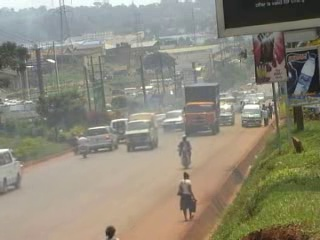Car: (84, 124, 119, 152), (159, 108, 188, 135), (108, 116, 130, 143), (151, 110, 165, 128)
Motorcycle: (175, 132, 194, 171), (77, 130, 91, 162), (68, 130, 81, 157)
